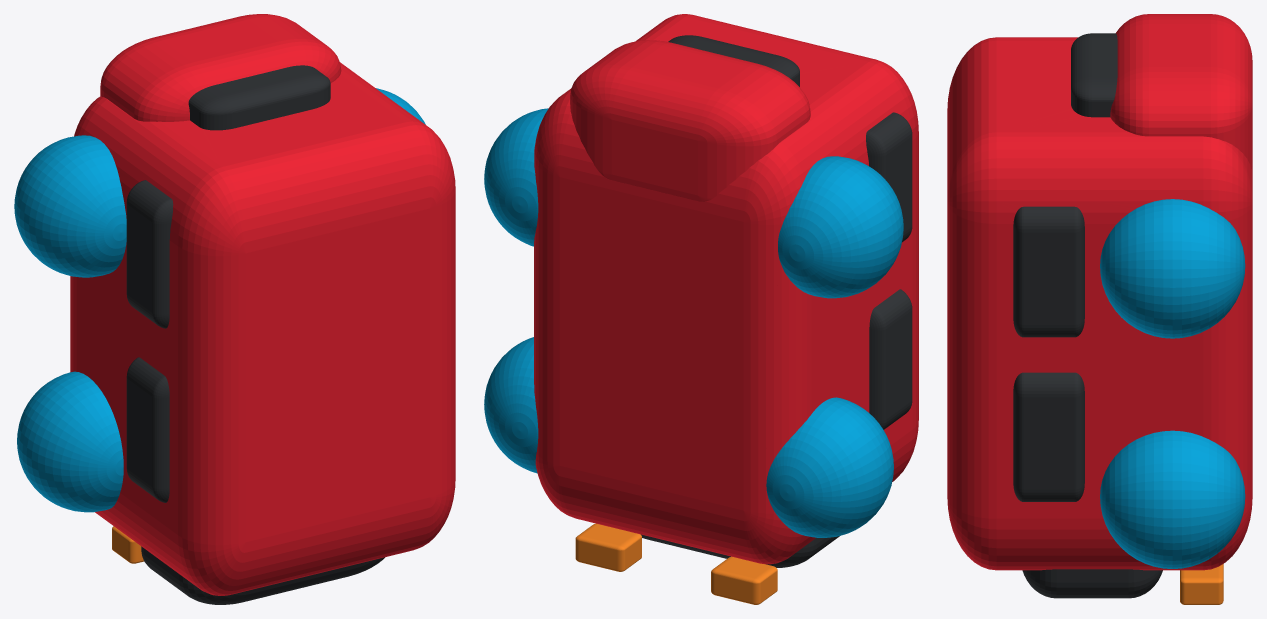
The model's file is tinker.obj.
3 views of the same model, side by side, from view 1: azimuth 30°, elevation 25°; view 2: azimuth 150°, elevation 25°; view 3: azimuth 270°, elevation 25° (orthographic). The views are drawn at different scales.
Parts seen in each view (by area): view 1: group_0_15277357, group_0_40919, group_0_2829873, group_0_16089887; view 2: group_0_15277357, group_0_40919, group_0_2829873, group_0_16089887; view 3: group_0_15277357, group_0_40919, group_0_2829873, group_0_16089887.
Part boxes in pixels (x1,y1,x2,y2): group_0_15277357: (70, 14, 455, 595); group_0_40919: (14, 88, 425, 512); group_0_2829873: (126, 65, 384, 604); group_0_16089887: (112, 526, 144, 563); group_0_15277357: (534, 14, 918, 564); group_0_40919: (484, 108, 903, 537); group_0_2829873: (641, 35, 912, 567); group_0_16089887: (575, 523, 777, 604); group_0_15277357: (947, 14, 1252, 570); group_0_40919: (1100, 199, 1245, 568); group_0_2829873: (1013, 33, 1162, 598); group_0_16089887: (1180, 564, 1223, 604).
Size of the model in its own units: 65 by 78 by 42.
